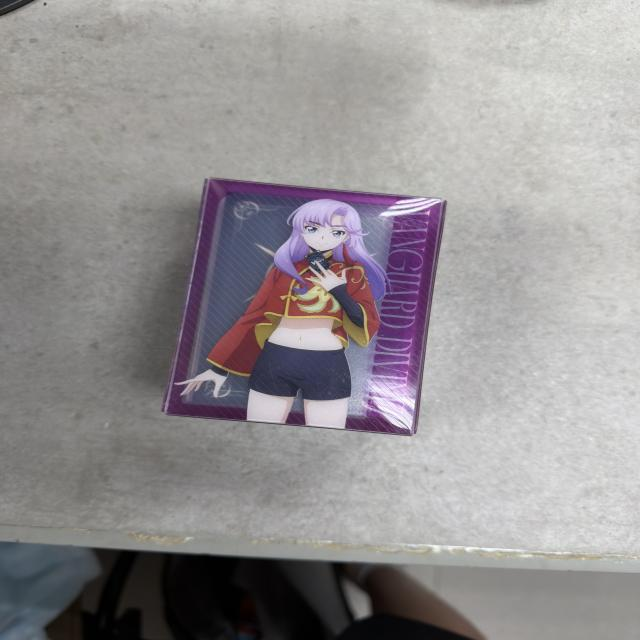box: (158, 176, 446, 436)
